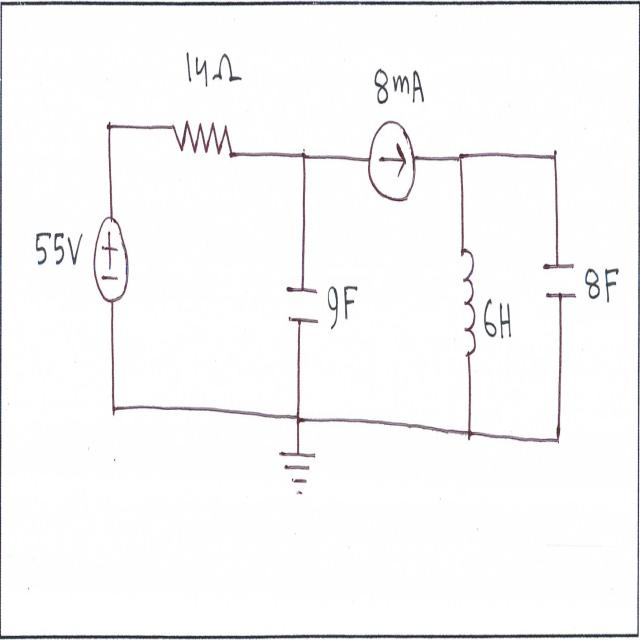capacitor: (283, 266, 325, 351), (538, 252, 580, 312)
current_source: (361, 109, 424, 214)
ground: (274, 441, 320, 508)
inductor: (456, 236, 481, 369)
resistor: (168, 110, 236, 180)
voltage_source: (91, 202, 134, 313)
